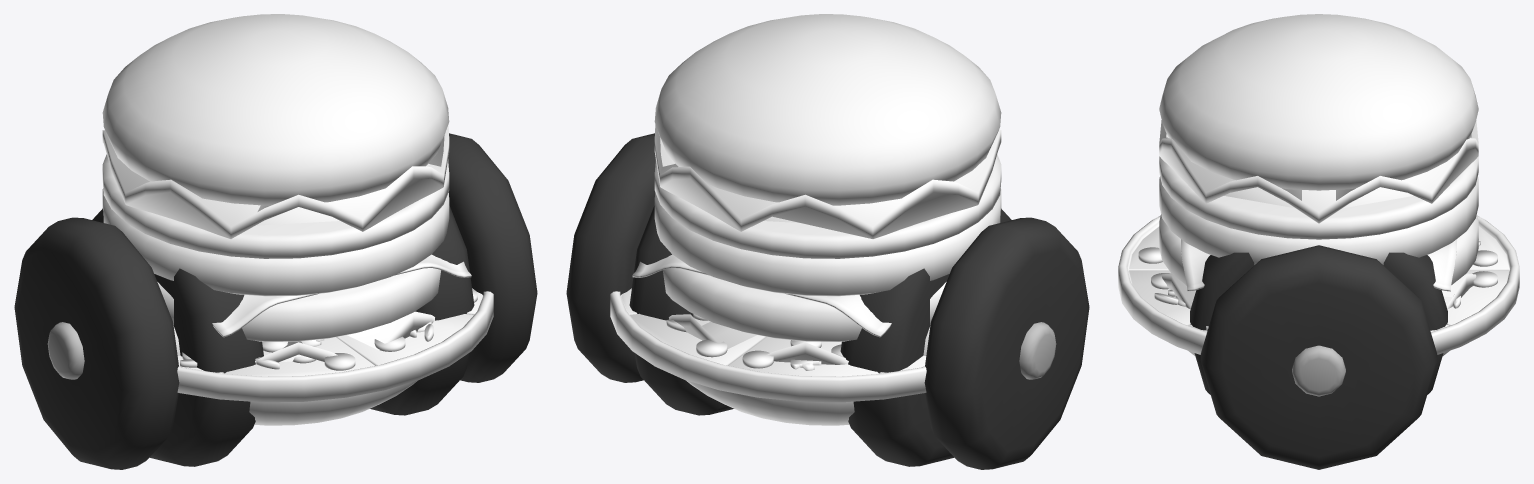
File: collectble.fbx
The picture shows the model from 3 angles, left to right: view 1: azimuth 30°, elevation 25°; view 2: azimuth 150°, elevation 25°; view 3: azimuth 270°, elevation 25°; orthographic projection. The views are drawn at different scales.
Visible parts, largest first — view 1: hamburger_son, dambıl_son, pizza_son; view 2: hamburger_son, dambıl_son, pizza_son; view 3: hamburger_son, dambıl_son, pizza_son.
Part boxes in pixels (box(x1,y1,x2,y2)): hamburger_son: box(102, 14, 471, 425); dambıl_son: box(14, 133, 537, 469); pizza_son: box(177, 288, 493, 402); hamburger_son: box(632, 14, 1001, 425); dambıl_son: box(566, 133, 1089, 469); pizza_son: box(610, 288, 926, 402); hamburger_son: box(1159, 14, 1478, 356); dambıl_son: box(1190, 245, 1447, 469); pizza_son: box(1118, 216, 1519, 354).
Size of the model in its own units: 2106 by 1804 by 1833.
